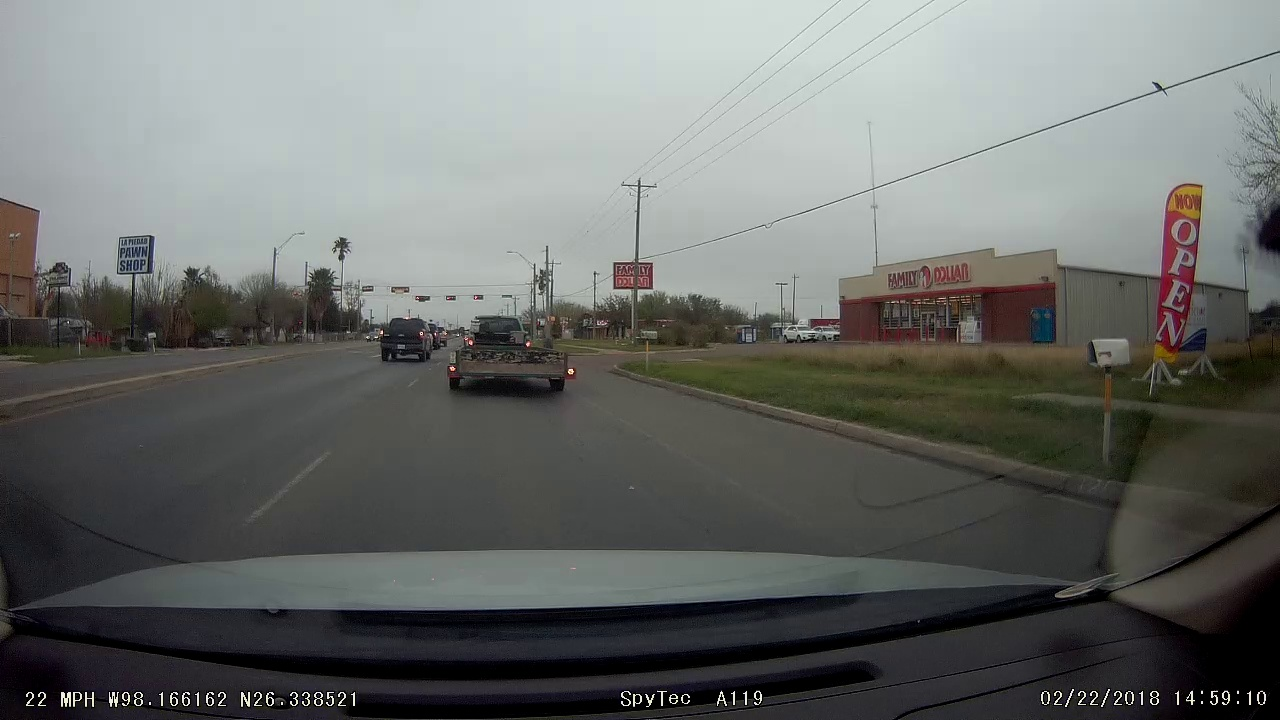blurredLine: (230, 440, 341, 535)
